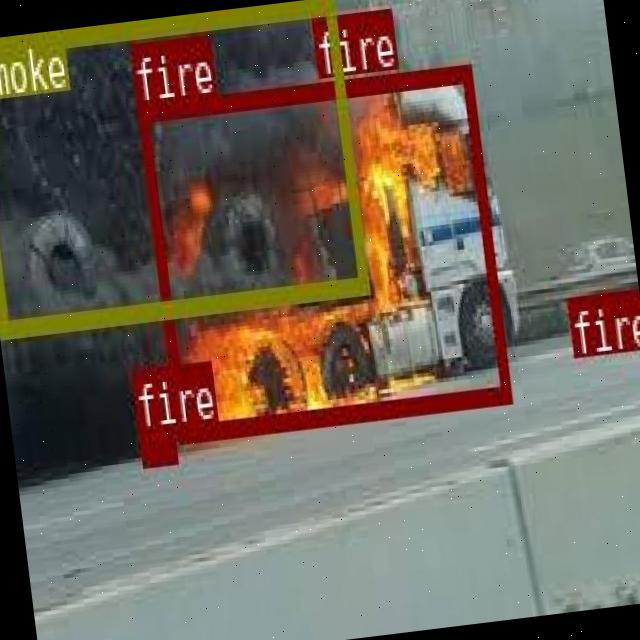fire: (136, 62, 510, 440), (565, 290, 623, 338), (308, 10, 346, 58), (136, 424, 174, 462)
smoke: (0, 0, 365, 336)
